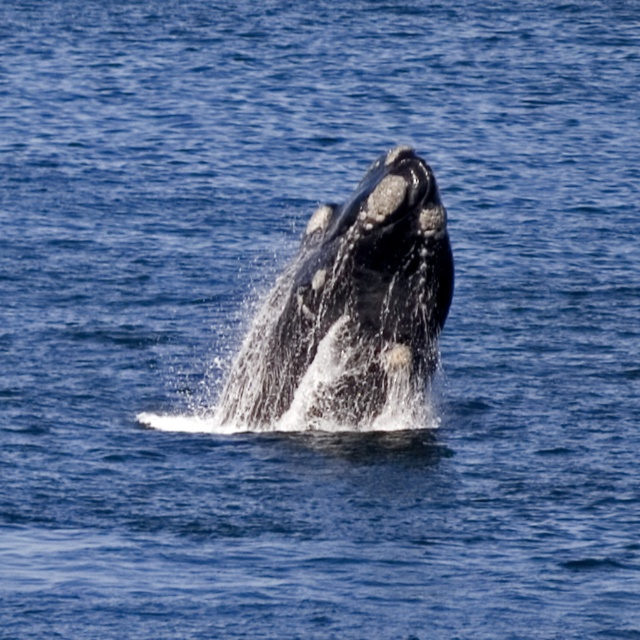Whale: (218, 144, 454, 432)
